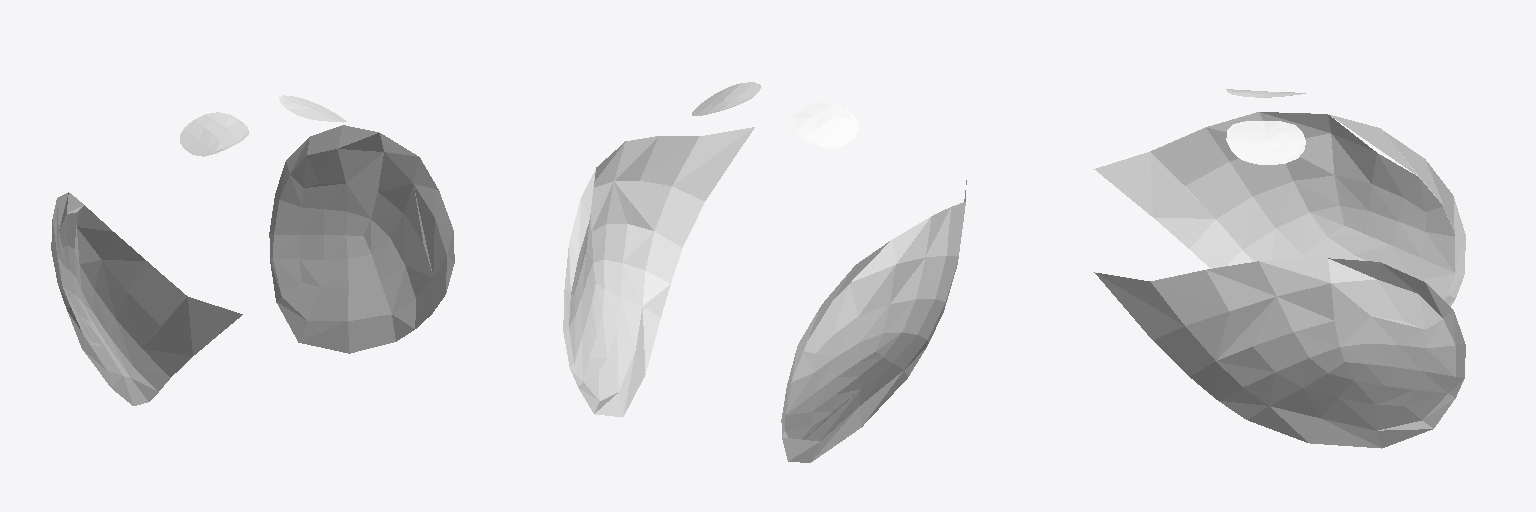
File: headHighlight.obj
The picture shows the model from 3 angles: view 1: azimuth 30°, elevation 25°; view 2: azimuth 150°, elevation 25°; view 3: azimuth 270°, elevation 25°; orthographic projection.
Visible parts, largest first — view 1: Head_001; view 2: Head_001; view 3: Head_001.
Part boxes in pixels (bbox=[...]): Head_001: bbox=[51, 95, 454, 405]; Head_001: bbox=[563, 82, 966, 462]; Head_001: bbox=[1094, 89, 1465, 448].
Size of the model in its own units: 0.1908 by 0.1719 by 0.1972.